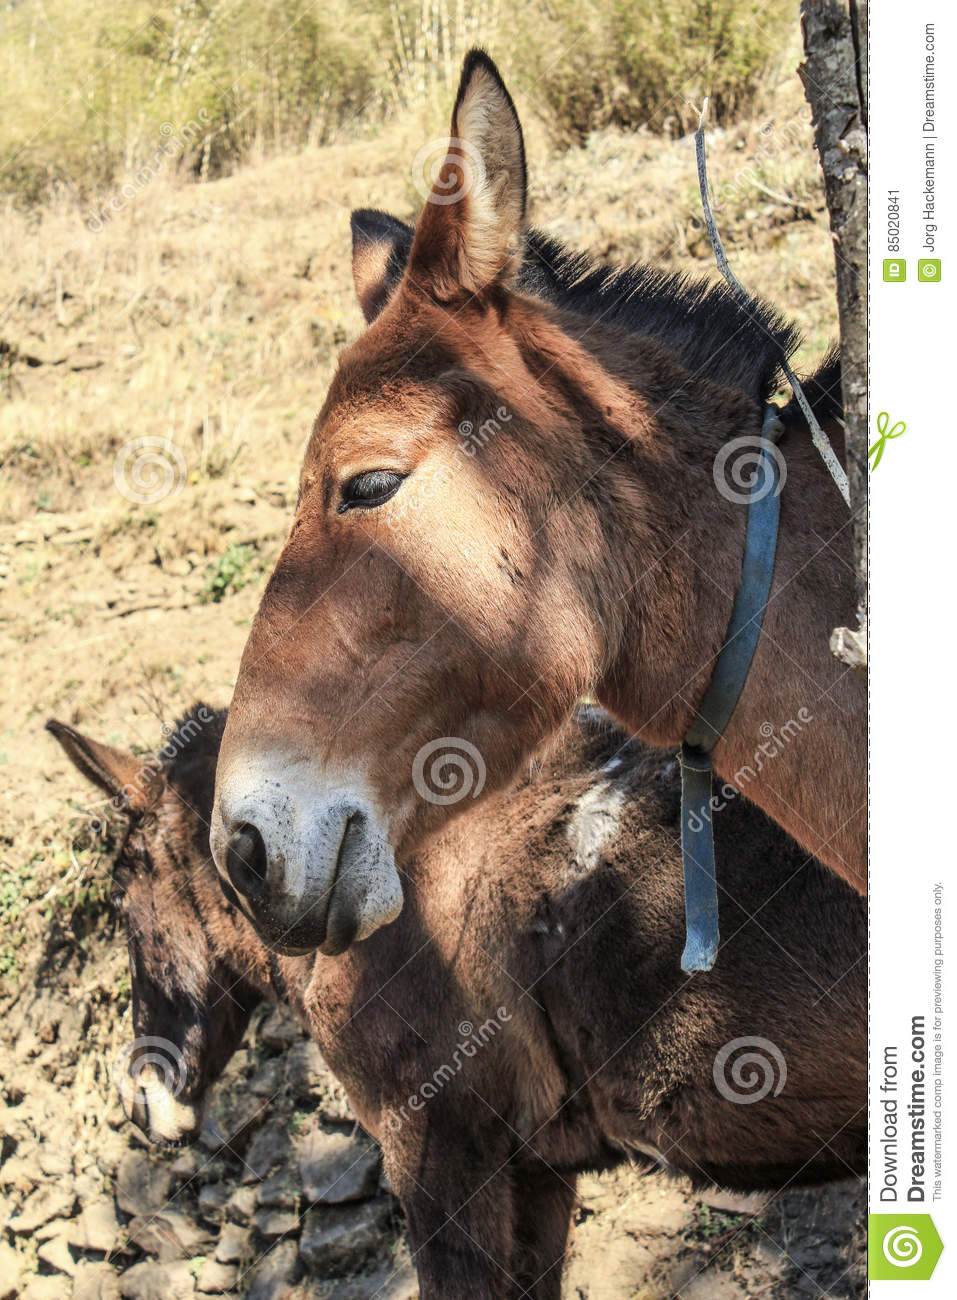equine: (206, 42, 957, 994), (28, 692, 957, 1300)
